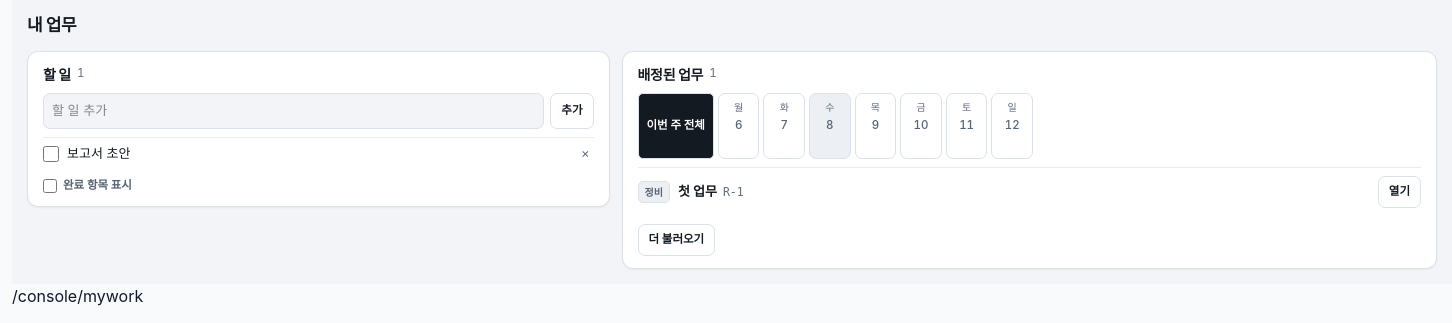
MyWorkBody › fails closed when a later page repeats an earlier cursor
Expected: the text "첫 업무" is shown, top-left (678, 182), bottom-right (717, 202)
Click the button "더 불러오기": (676, 240) top-left (638, 224), bottom-right (715, 256)
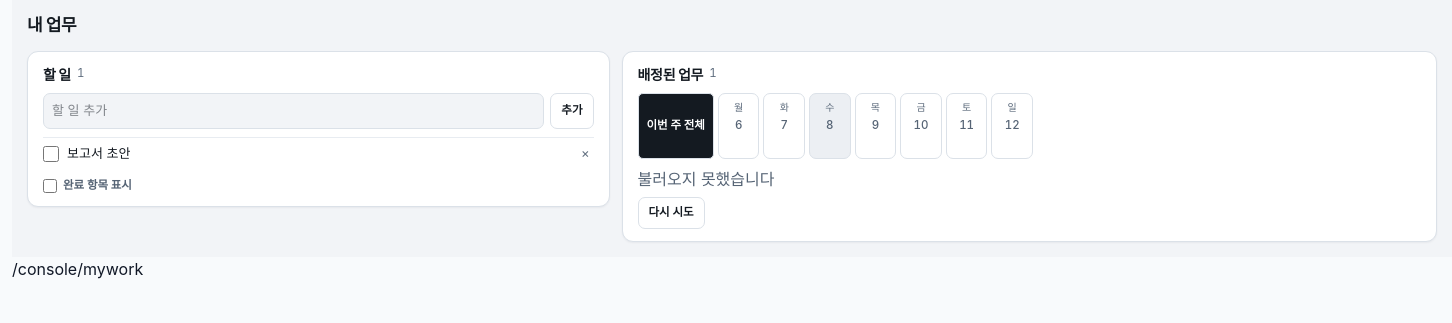
Result: the message "불러오지 못했습니다 다시 시도" is shown at top-left (638, 169), bottom-right (774, 229)
